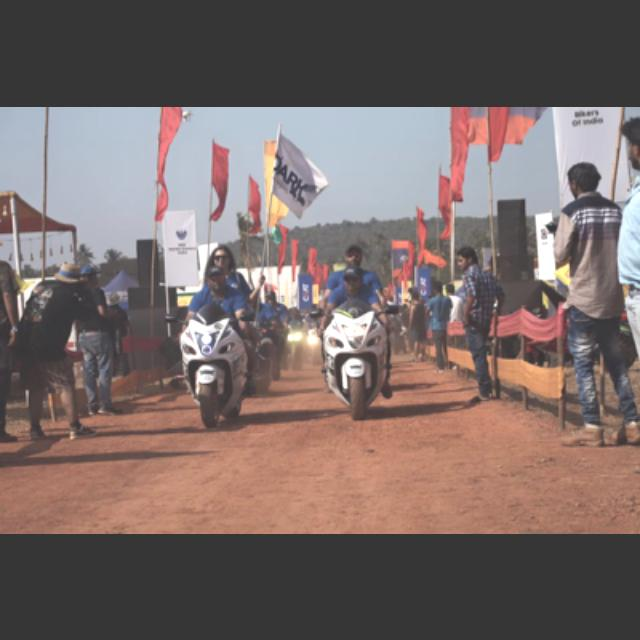Without Helmet: (339, 232, 371, 266), (208, 238, 240, 268), (338, 267, 368, 293), (203, 268, 230, 292)
